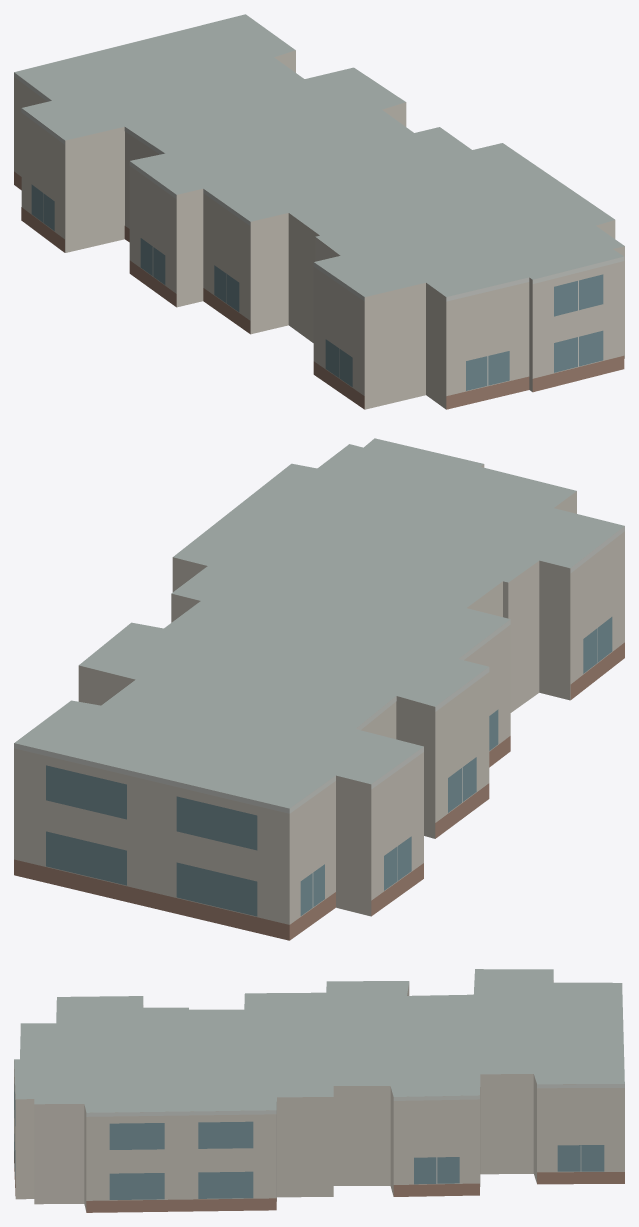
The model's file is survey-upis-32461975.glb.
3 views of the same model, one above another, from view 1: azimuth 30°, elevation 25°; view 2: azimuth 150°, elevation 25°; view 3: azimuth 270°, elevation 25° (orthographic). The views are drawn at different scales.
Visible parts, largest first — view 1: survey-upis-32461975.tmp; view 2: survey-upis-32461975.tmp; view 3: survey-upis-32461975.tmp.
Boxes of the visible parts, bbox=[...] form: survey-upis-32461975.tmp: bbox=[14, 14, 624, 409]; survey-upis-32461975.tmp: bbox=[14, 438, 624, 940]; survey-upis-32461975.tmp: bbox=[14, 969, 624, 1212].
Bounding box in the file's own units: 18.82 × 6.1 × 33.78.
